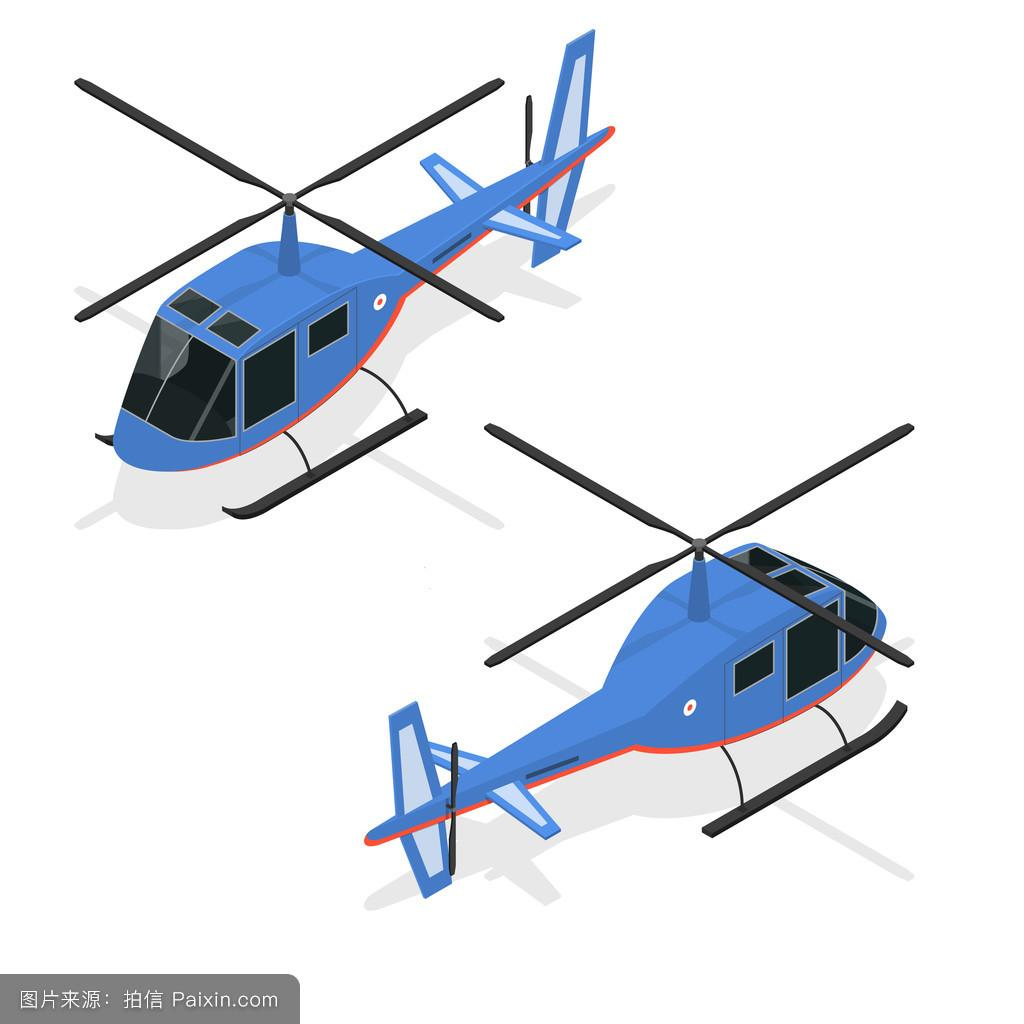airplane: (350, 412, 947, 887), (74, 26, 625, 464)
